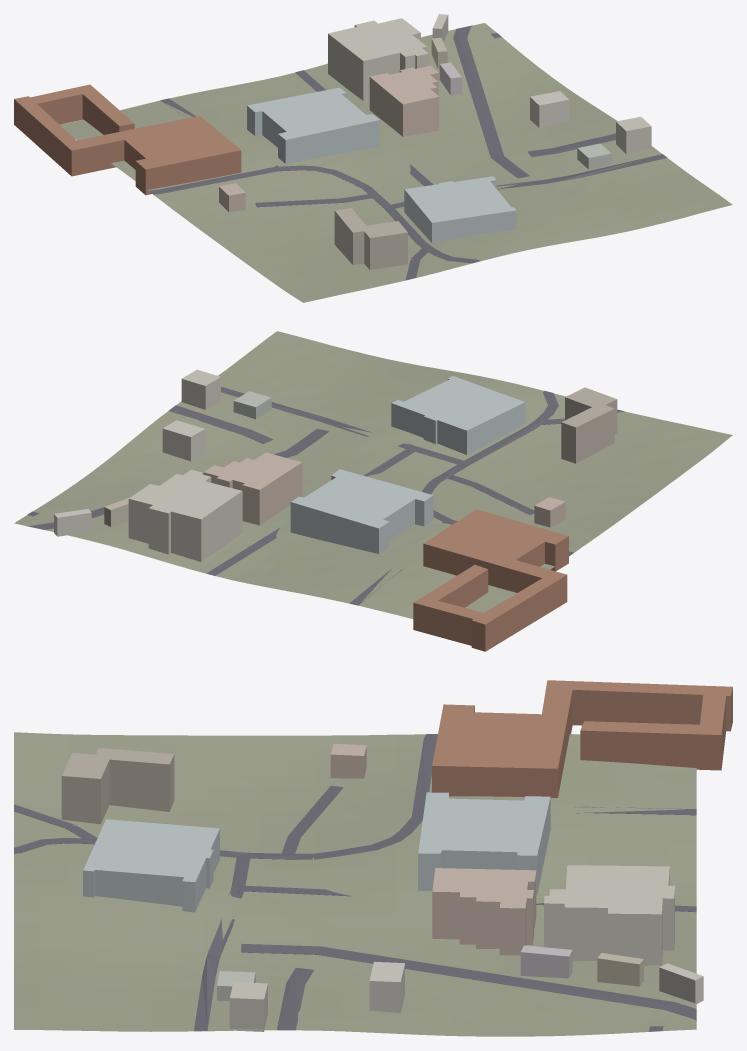
Rendered from chunk_1_1.glb.
3 views of the same model, one above another, from view 1: azimuth 30°, elevation 25°; view 2: azimuth 150°, elevation 25°; view 3: azimuth 270°, elevation 25° (orthographic). The views are drawn at different scales.
Parts seen in each view (by area): view 1: geometry_13, geometry_10, geometry_11, geometry_12, geometry_4, geometry_5, geometry_0, geometry_15, geometry_1, geometry_2, geometry_16, geometry_20 (+7 smaller); view 2: geometry_13, geometry_10, geometry_11, geometry_4, geometry_12, geometry_5, geometry_0, geometry_1, geometry_2, geometry_18, geometry_16, geometry_8 (+7 smaller); view 3: geometry_13, geometry_10, geometry_4, geometry_12, geometry_11, geometry_5, geometry_0, geometry_15, geometry_2, geometry_1, geometry_6, geometry_7 (+11 smaller).
Part boxes in pixels (x1,y1,x2,y2): geometry_13: (60,23,732,302); geometry_10: (14,84,241,195); geometry_11: (247,87,379,163); geometry_12: (404,176,516,243); geometry_4: (328,18,428,100); geometry_5: (369,65,439,136); geometry_0: (334,208,407,269); geometry_15: (453,25,529,178); geometry_1: (530,91,569,127); geometry_2: (616,117,651,154); geometry_16: (384,207,480,263); geometry_20: (148,167,278,194); geometry_13: (14,331,732,618); geometry_10: (413,509,568,651); geometry_11: (290,469,433,553); geometry_4: (128,469,242,561); geometry_12: (391,376,525,454); geometry_5: (203,452,302,525); geometry_0: (561,387,617,463); geometry_1: (162,420,204,461); geometry_2: (181,369,220,409); geometry_18: (206,447,417,575); geometry_16: (462,390,558,465); geometry_8: (54,509,91,536); geometry_13: (14,732,696,1036); geometry_10: (432,680,732,797); geometry_4: (544,865,674,965); geometry_12: (83,819,219,912); geometry_11: (418,792,550,895); geometry_5: (432,868,536,955); geometry_0: (61,748,174,824); geometry_15: (241,943,696,1020); geometry_2: (229,982,267,1031); geometry_1: (369,961,404,1012); geometry_6: (520,945,572,978); geometry_7: (597,953,643,986).
Size of the model in its own units: 272 by 23.62 by 263.
